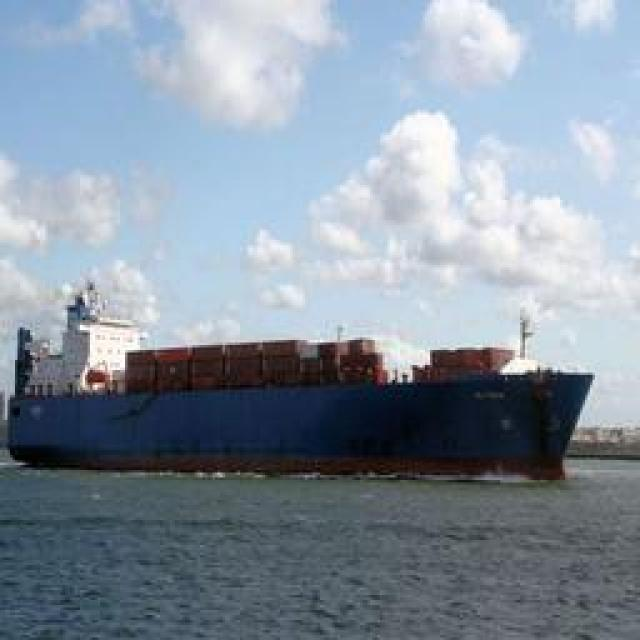ship2: (5, 279, 595, 481)
